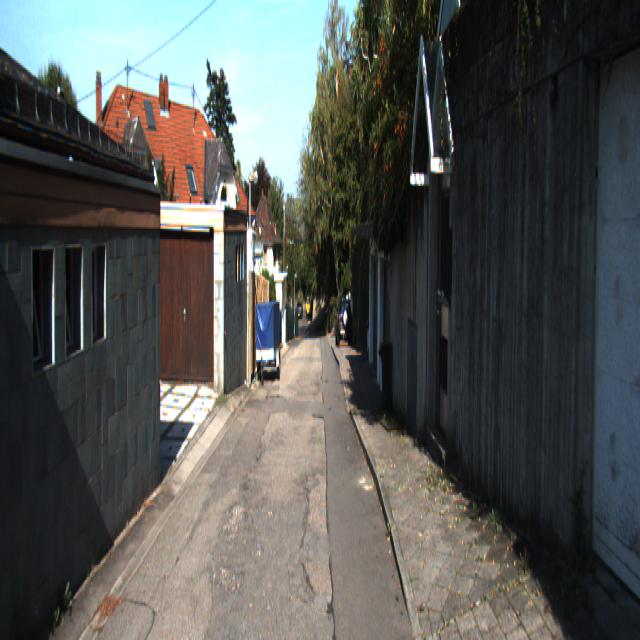Car: (254, 299, 280, 385), (334, 299, 354, 348)
